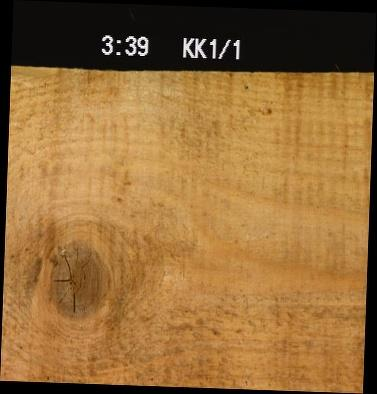sound_knot: (43, 236, 115, 321)
